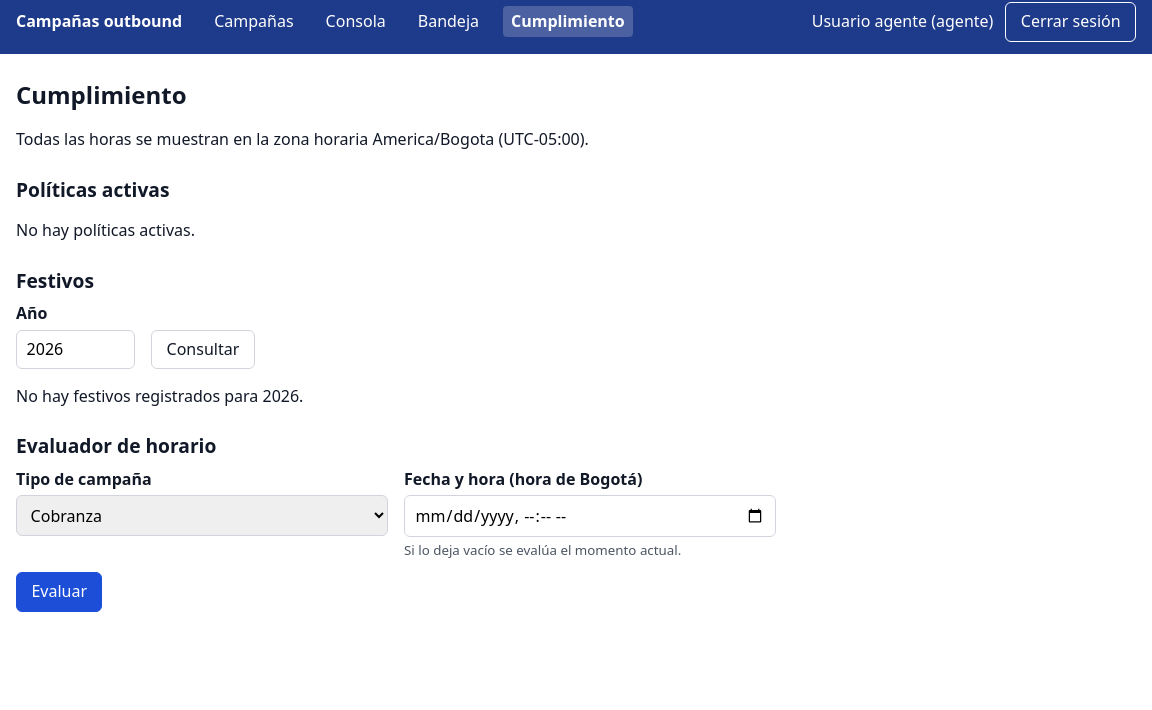
Test: Evaluador de cumplimiento › envía el momento con offset -05:00 y muestra motivos y próxima ventana
Type "2026-11-02T10:00" into the field labelled "Fecha y hora (hora de Bogotá)".
click(590, 516); type("2026-11-02T10:00")  # box top-left (404, 495), bottom-right (776, 537)
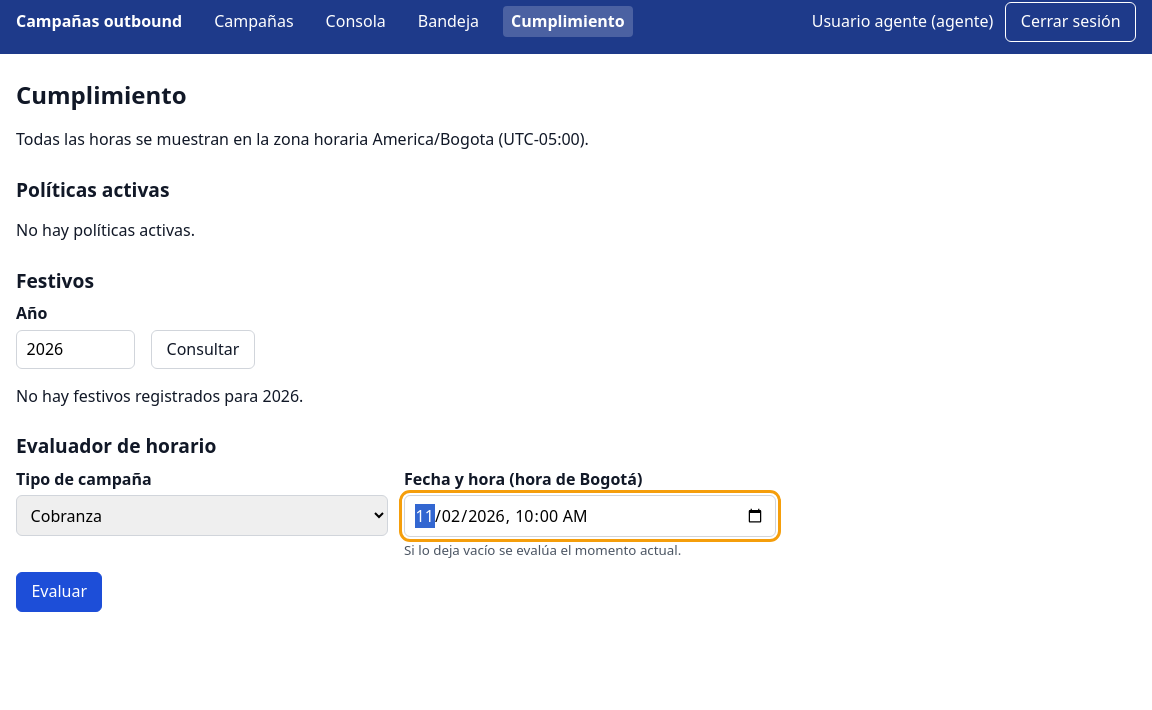
Click the button "Evaluar".
click(59, 592)  # box top-left (16, 572), bottom-right (102, 612)
(page scrolled)
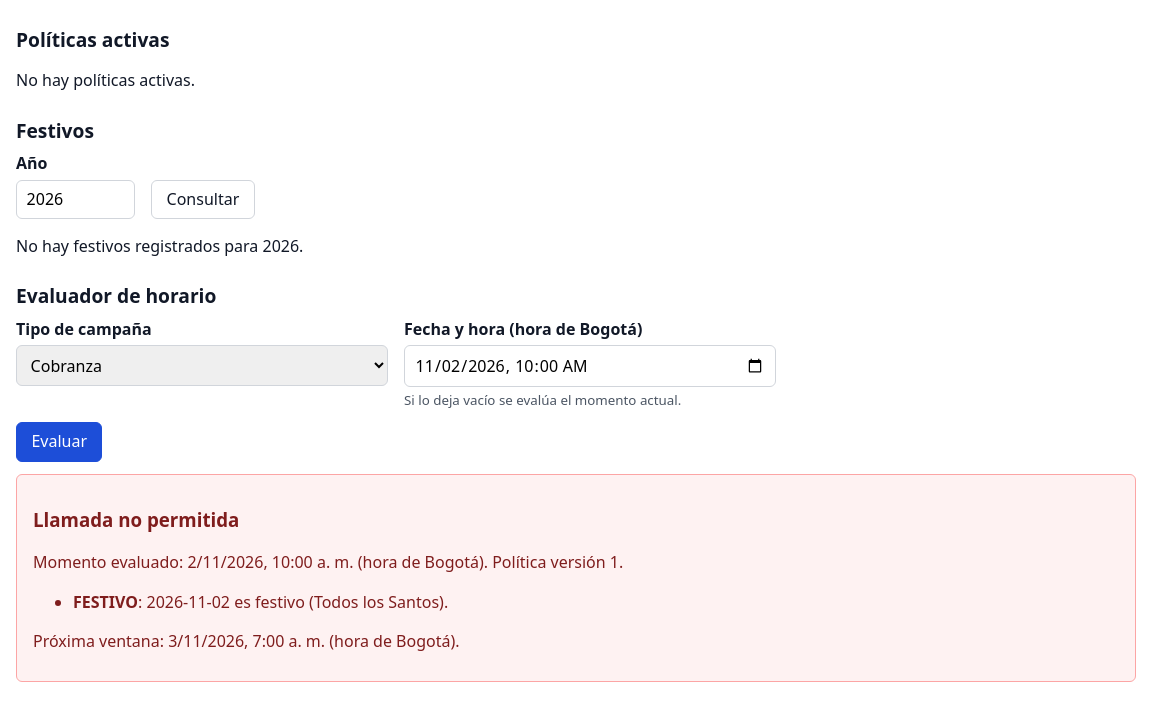
Check: the heading "Llamada no permitida" is shown, box top-left (33, 506), bottom-right (239, 532)
Check: the list item "FESTIVO: 2026-11-02 es festivo (Todos los Santos)." is shown, box top-left (73, 591), bottom-right (448, 613)
Check: the text "Próxima ventana: 3/11/2026, 7:00 a. m. (hora de Bogotá)." is shown, box top-left (33, 630), bottom-right (460, 652)
